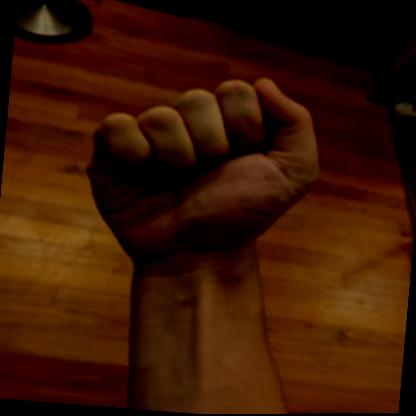A: (70, 56, 339, 291)
